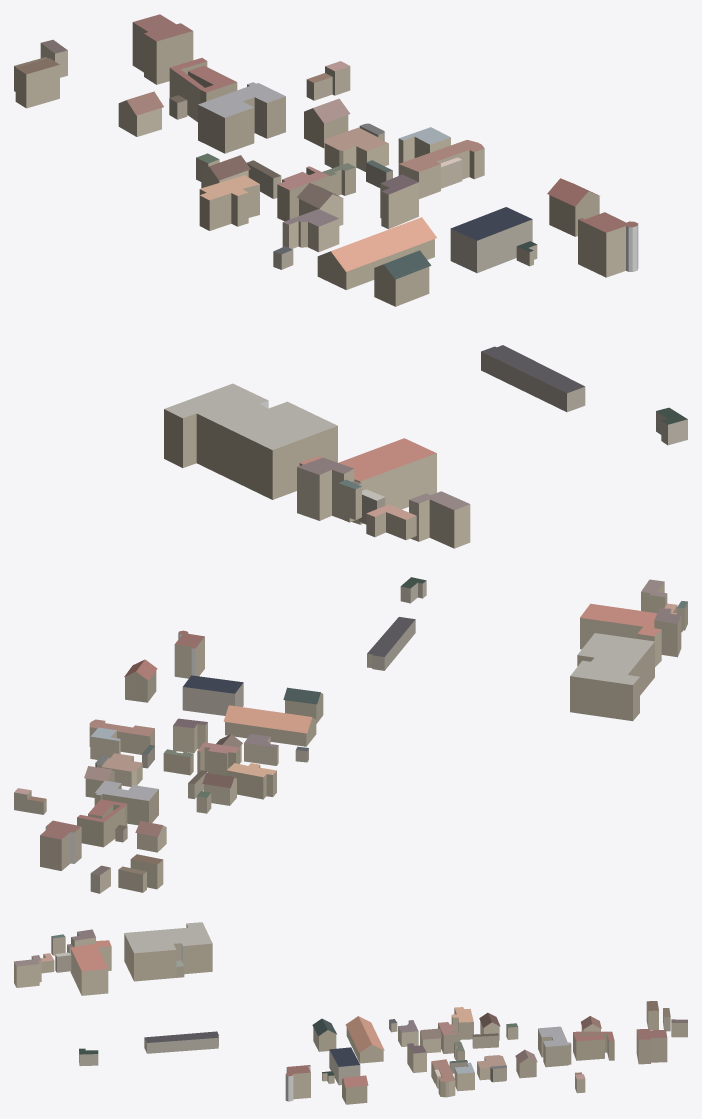
3 views of the same model, one above another, from view 1: azimuth 30°, elevation 25°; view 2: azimuth 150°, elevation 25°; view 3: azimuth 270°, elevation 25° (orthographic). The views are drawn at different scales.
Parts seen in each view (by area): view 1: tuile; view 2: tuile; view 3: tuile.
Part boxes in pixels (box(x1,y1,x2,y2)): tuile: box(14, 14, 687, 548); tuile: box(14, 577, 687, 893); tuile: box(14, 922, 687, 1104).
Size of the model in its own units: 139 by 13.38 by 254.
